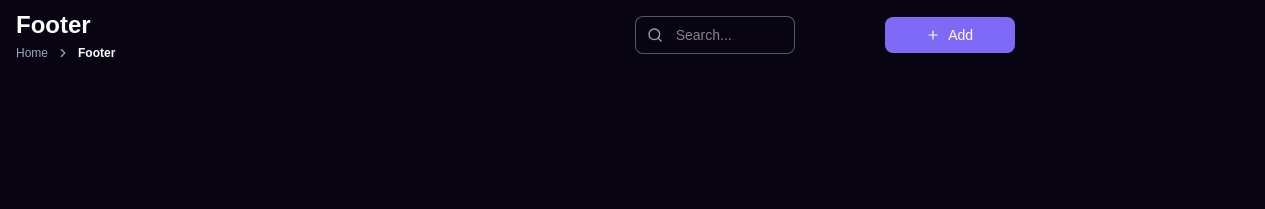
Test case: FooterListTemplate › filters footers by search term
The image size is (1265, 209).
Type "Footer 1" into the field with placeholder "Search..." at (715, 35), box left=635, top=16, right=795, bottom=54
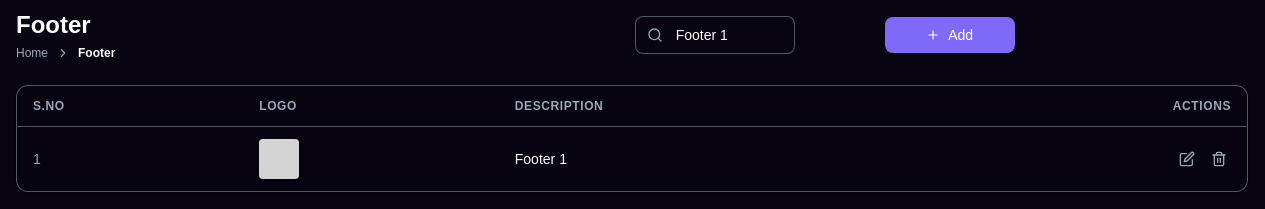
Expected: the text "Footer 1" is shown, left=499, top=126, right=927, bottom=191
